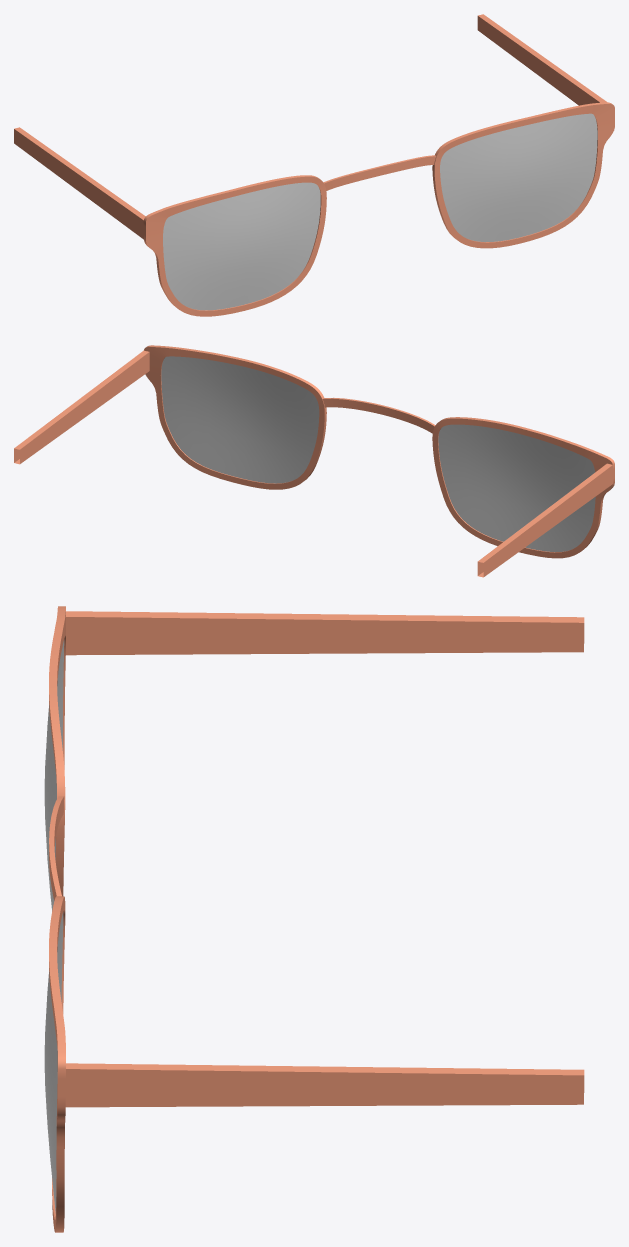
The model's file is PRADA Glasses Wide Full Res Cutoff.fbx.
3 renders of one model, top to bottom at view 1: azimuth 30°, elevation 25°; view 2: azimuth 150°, elevation 25°; view 3: azimuth 270°, elevation 25°, orthographic. The views are drawn at different scales.
Parts seen in each view (by area): view 1: PRADA Glasses Wide Full Res Cutoff; view 2: PRADA Glasses Wide Full Res Cutoff; view 3: PRADA Glasses Wide Full Res Cutoff.
Part boxes in pixels (x1=…): PRADA Glasses Wide Full Res Cutoff: x1=14, y1=14, x2=614, y2=316; PRADA Glasses Wide Full Res Cutoff: x1=14, y1=345, x2=614, y2=577; PRADA Glasses Wide Full Res Cutoff: x1=44, y1=606, x2=584, y2=1232.
Bounding box in the file's own units: 0.1874 × 0.0471 × 0.0933.
